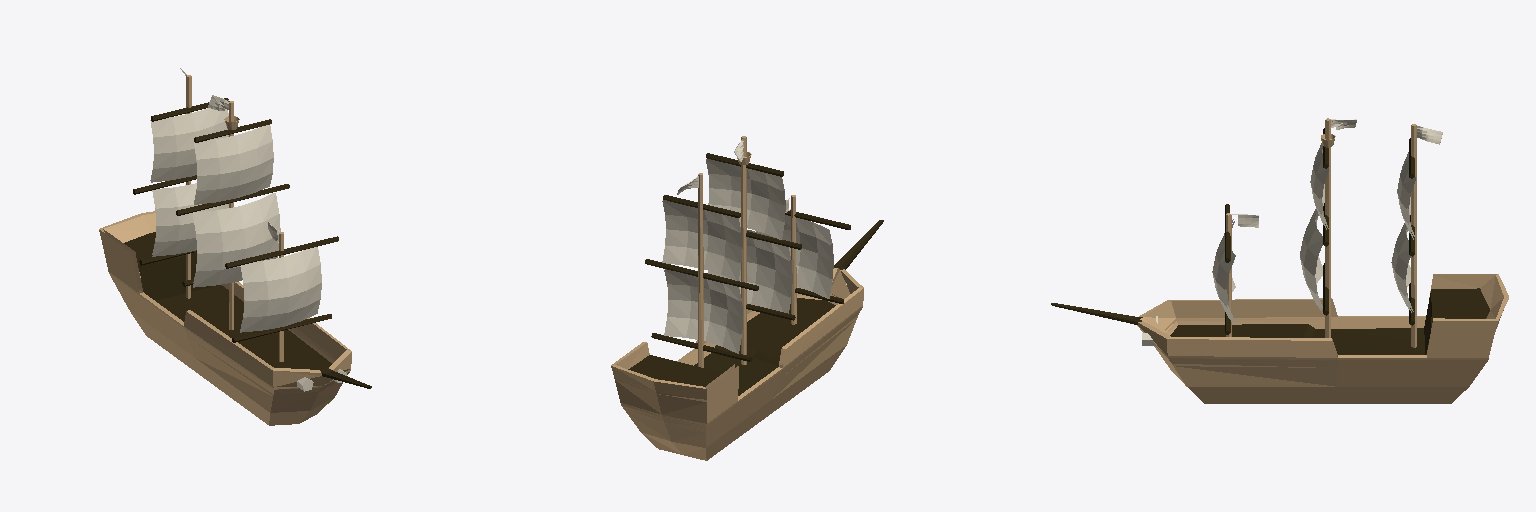
The model's file is Ship1Splitted.obj.
3 renders of one model, left to right at view 1: azimuth 30°, elevation 25°; view 2: azimuth 150°, elevation 25°; view 3: azimuth 270°, elevation 25°, orthographic.
Visible parts, largest first — view 1: Ship1.3, Ship1.10, Ship1.6_1, Ship1.8_1, Ship1.3_1, Ship1.4, Ship1.1, Ship1.5, Ship1.2, Null.2, Null.1, Null; view 2: Ship1.1, Ship1.10, Ship1.3, Ship1.5, Ship1.4, Ship1.3_1, Ship1.6_1, Null, Ship1.8_1, Null.1, Ship1.2, Null.2 (+1 smaller); view 3: Ship1.3, Ship1.1, Ship1.10, Ship1.2, Null, Null.1, Ship1.6_1, Ship1.5, Ship1.8_1, Null.2, Ship1.3_1, Ship1.4.
Part boxes in pixels (x1,y1,x2,y2): Ship1.3: (184, 310, 351, 425); Ship1.10: (124, 232, 331, 369); Ship1.6_1: (193, 193, 280, 287); Ship1.8_1: (240, 247, 321, 332); Ship1.3_1: (194, 125, 273, 204); Ship1.4: (150, 108, 228, 182); Ship1.1: (99, 211, 169, 352); Ship1.5: (152, 183, 228, 256); Ship1.2: (140, 282, 243, 377); Null.2: (225, 222, 338, 361); Null.1: (176, 101, 289, 329); Null: (133, 68, 228, 298); Ship1.1: (611, 342, 738, 460); Ship1.10: (628, 298, 835, 395); Ship1.3: (696, 268, 863, 417); Ship1.5: (664, 269, 742, 353); Ship1.4: (662, 200, 741, 280); Ship1.3_1: (706, 159, 785, 239); Ship1.6_1: (708, 230, 792, 313); Null: (645, 173, 758, 367); Ship1.8_1: (756, 215, 833, 298); Null.1: (706, 136, 801, 364); Ship1.2: (677, 348, 781, 442); Null.2: (785, 195, 850, 324); Ship1.3: (1137, 298, 1337, 403); Ship1.1: (1404, 274, 1508, 403); Ship1.10: (1170, 288, 1489, 354); Ship1.2: (1336, 316, 1426, 403); Null: (1409, 124, 1442, 347); Null.1: (1321, 118, 1335, 337); Ship1.6_1: (1300, 209, 1322, 312); Ship1.5: (1391, 223, 1413, 312); Ship1.8_1: (1212, 219, 1235, 323); Null.2: (1225, 204, 1258, 336); Ship1.3_1: (1310, 143, 1328, 229); Ship1.4: (1397, 152, 1415, 239).
Size of the model in its own units: 76.67 by 179 by 273.